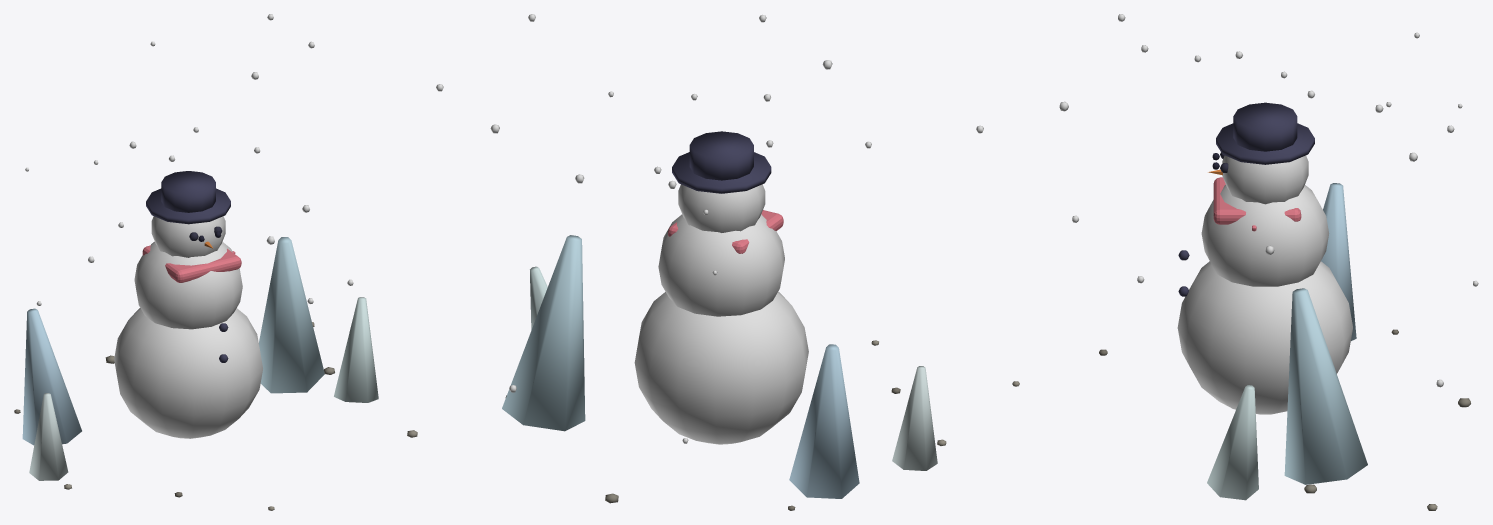
Rendered from gym_deco_lake_lite.glb.
The picture shows the model from 3 angles, left to right: view 1: azimuth 30°, elevation 25°; view 2: azimuth 150°, elevation 25°; view 3: azimuth 270°, elevation 25°; orthographic projection. The views are drawn at different scales.
Parts seen in each view (by area): view 1: Sphere; view 2: Sphere; view 3: Sphere.
Boxes of the visible parts, x1,y1,x2,y2 form: Sphere: (14, 14, 378, 510); Sphere: (407, 14, 983, 510); Sphere: (1012, 14, 1478, 510).
Size of the model in its own units: 6.14 by 5.5 by 5.84.
